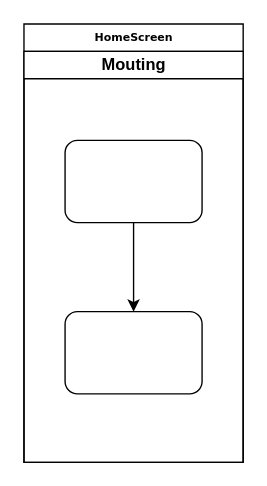
The diagram is 267 pixels wide and 486 high, and some of its shapes have lost their labels. The shapes that lost their labels are listed below. From the top down, each one's centre as x and y in pixels, then its label:
At (133,181): "Initial Set up new state: currentDay".
At (133,352): "render()".
